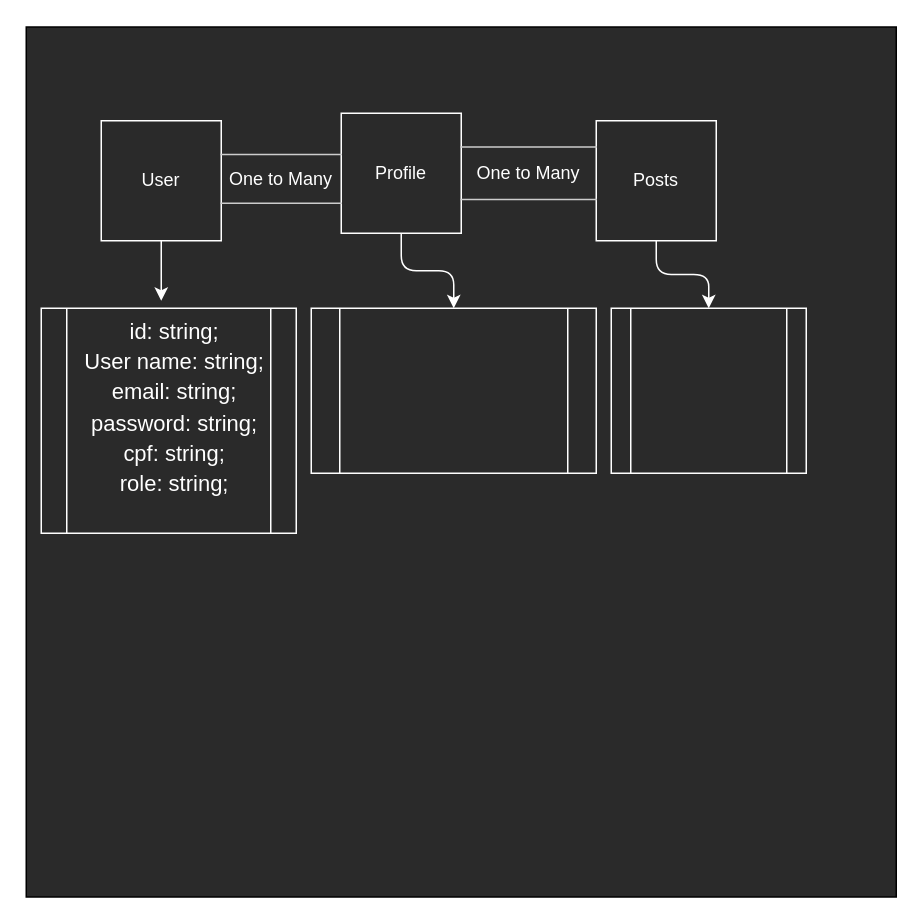
The diagram is 923 pixels wide and 923 high, and some of its shapes have lost their labels. The box of each missing label's shape, as (x1, y1, x2, y2) in pixels:
id: String Title: String body: String: (610, 307, 806, 473)
id:String Profile name: String Profile Picture: String: (310, 307, 596, 473)
